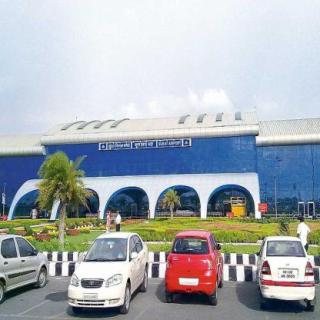Normal_vehicle: (68, 232, 146, 310), (165, 230, 222, 303)
